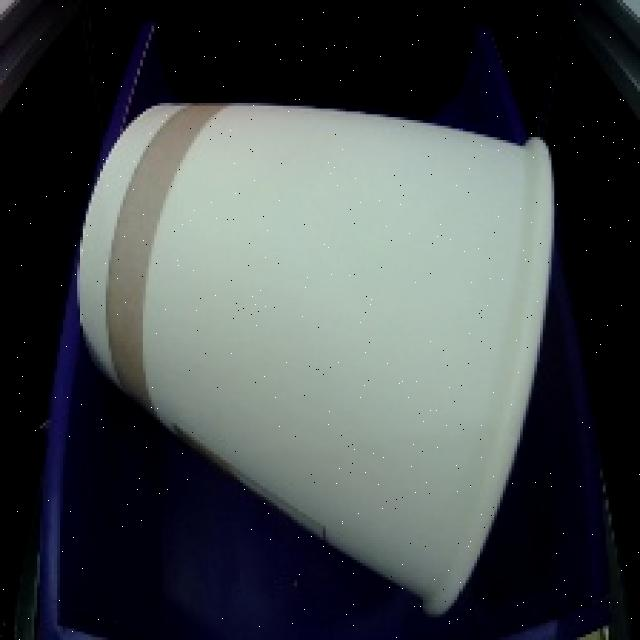cups: (62, 89, 572, 623)
